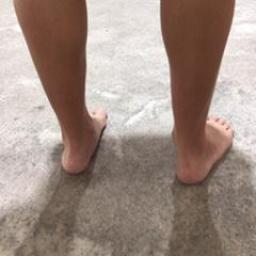Back View -Both Feet-: (31, 70, 239, 191)
